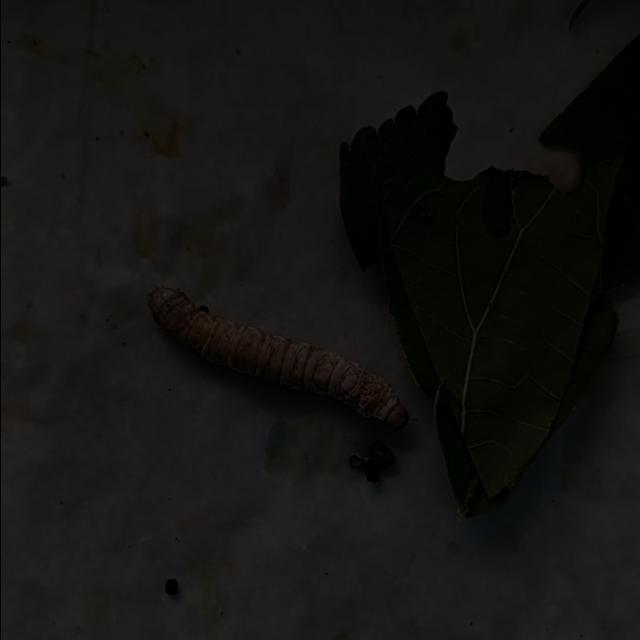Grasserie: (125, 223, 424, 447)
